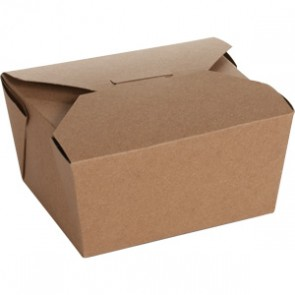Rec_Paper: (5, 19, 295, 263)
